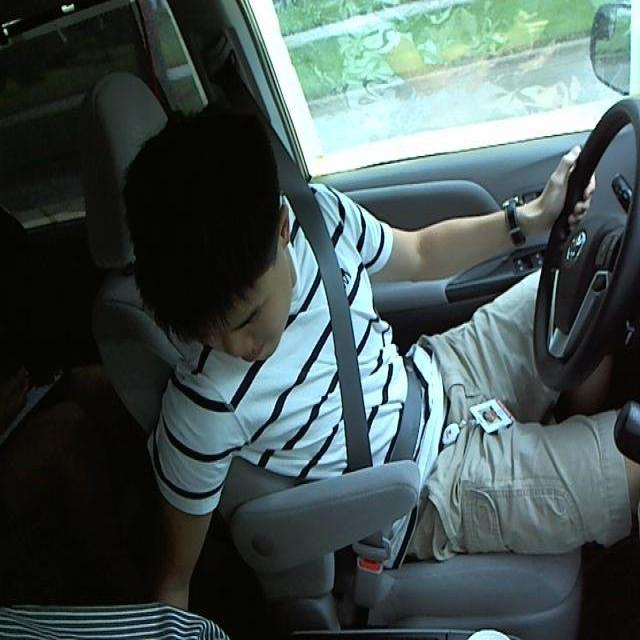seatbelt: (297, 215, 398, 488)
